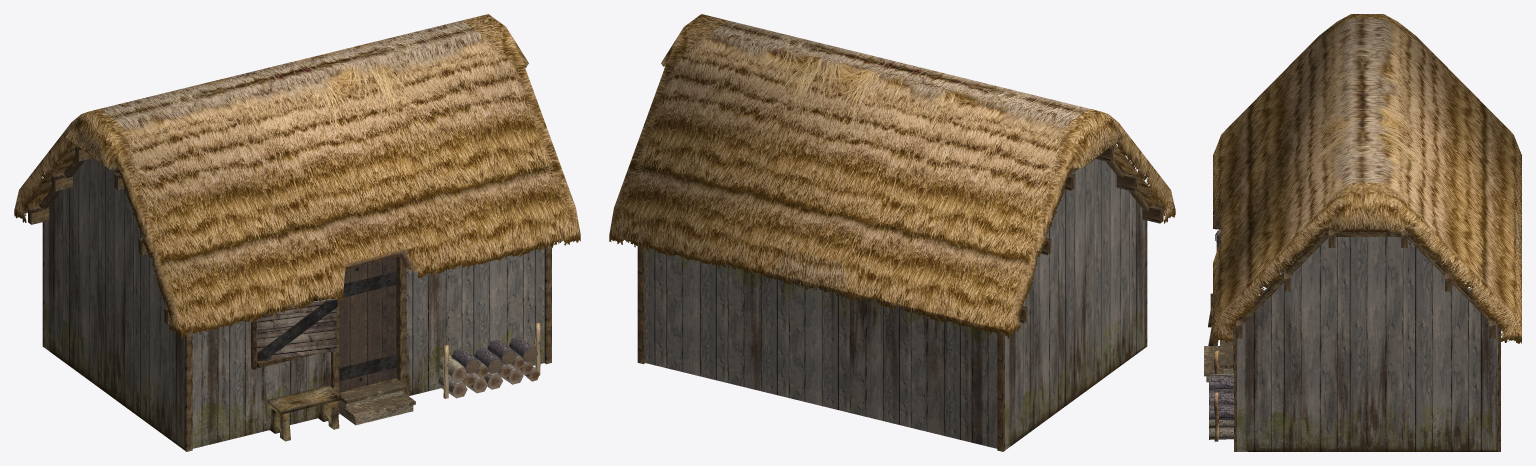
The picture shows the model from 3 angles, left to right: view 1: azimuth 30°, elevation 25°; view 2: azimuth 150°, elevation 25°; view 3: azimuth 270°, elevation 25°; orthographic projection. The views are drawn at different scales.
Visible parts, largest first — view 1: house_; view 2: house_; view 3: house_.
Boxes of the visible parts, x1,y1,x2,y2 form: house_: [14, 14, 580, 451]; house_: [609, 14, 1175, 451]; house_: [1204, 14, 1521, 451].
Size of the model in its own units: 6.95 by 4.5 by 4.87.
2 materials, 2 textured.
